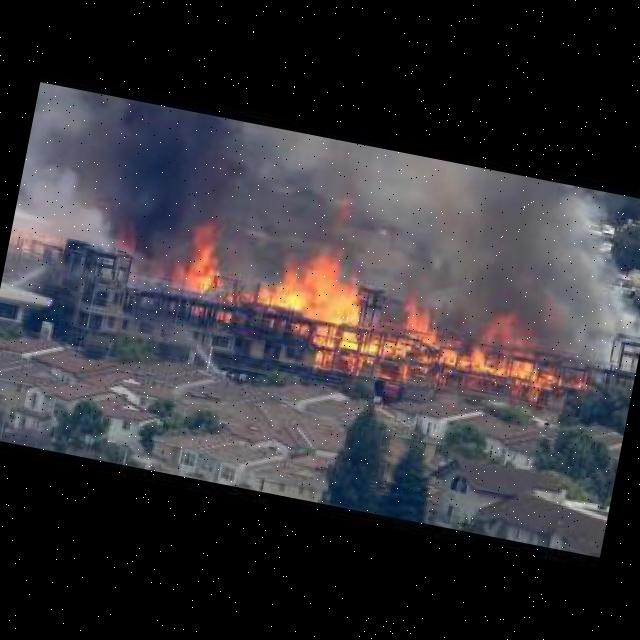fire: (119, 215, 616, 421)
